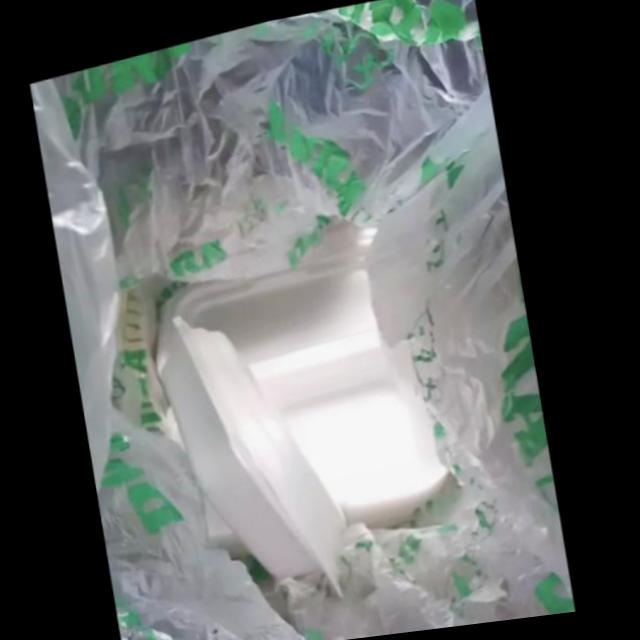xop: (157, 264, 452, 520), (162, 309, 354, 592)
